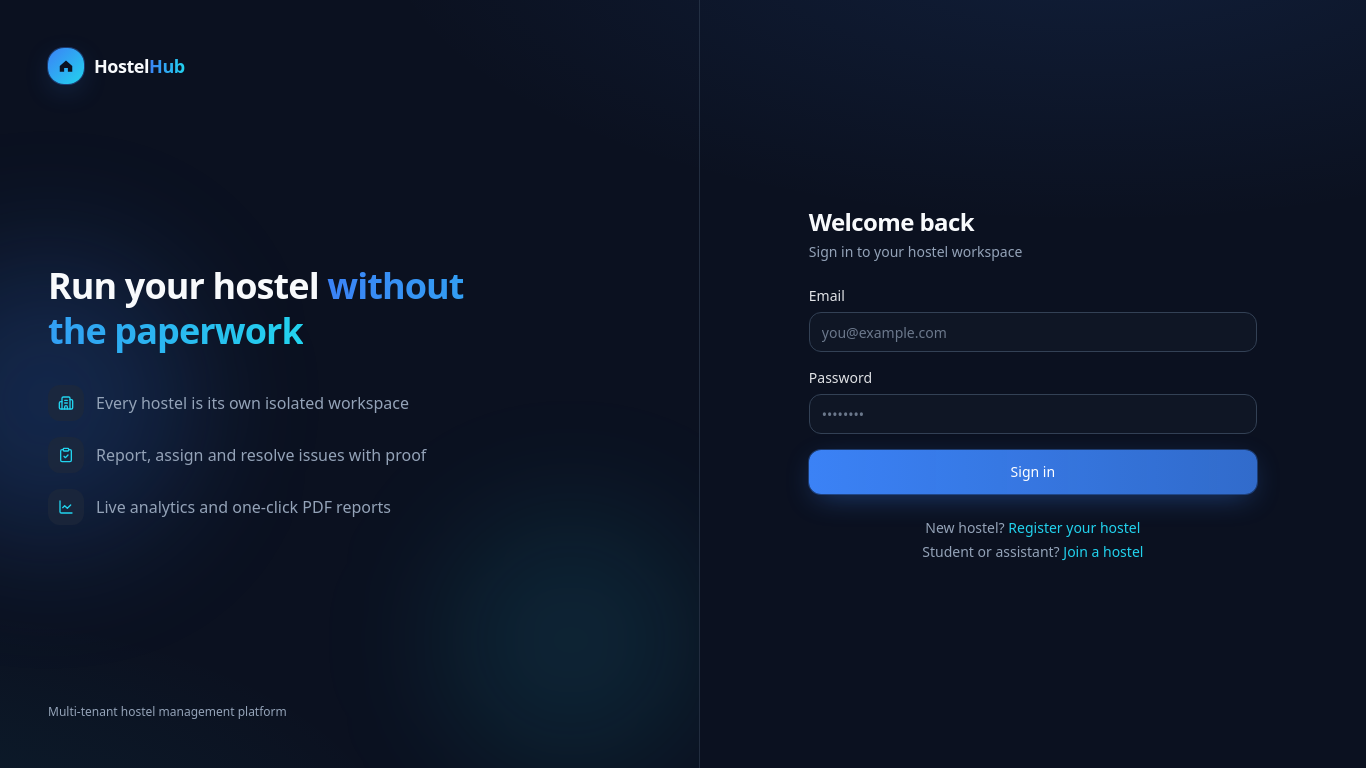
login form › explains rate limiting
The image size is (1366, 768).
Type "a@b.co" into the field labelled "Email" at (1033,332), box [809, 312, 1257, 352]
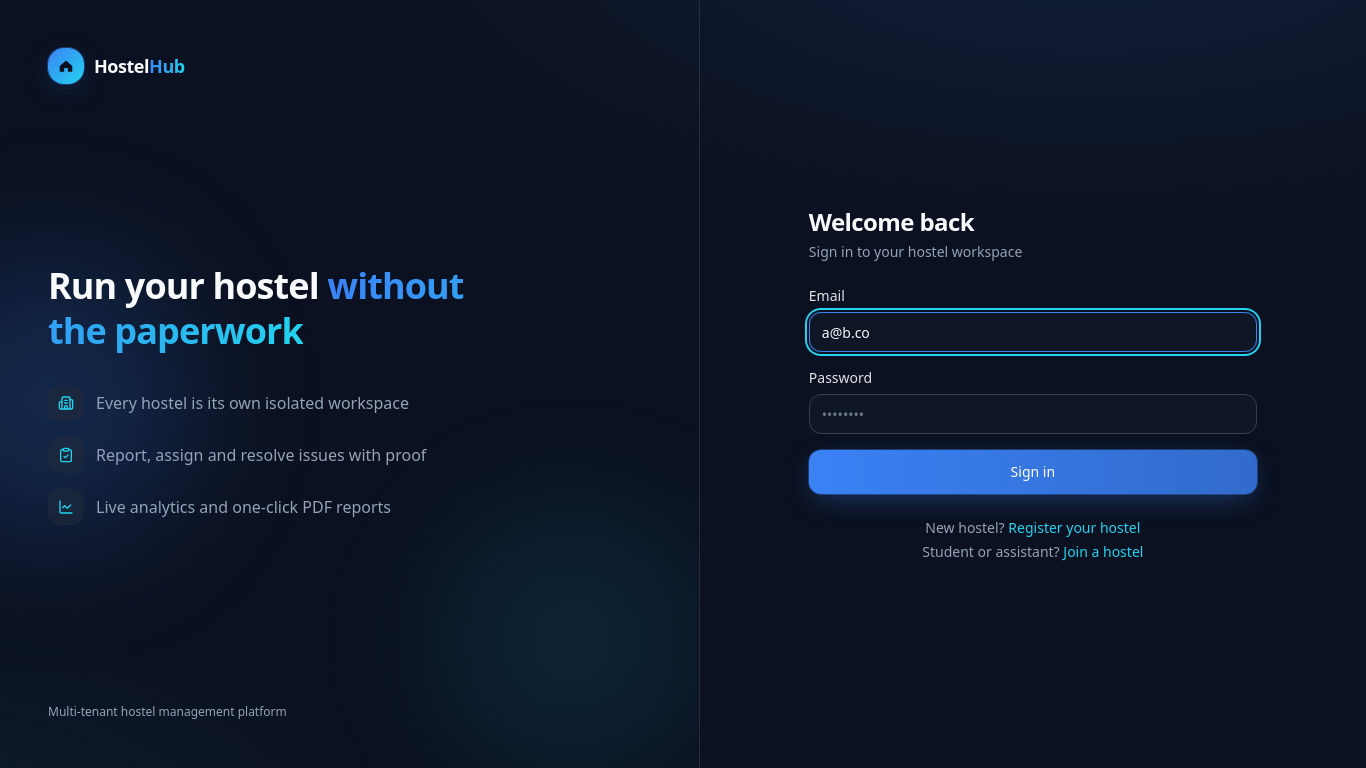
Type "wrong" into the password field labelled "Password" at (1033,414), box [809, 394, 1257, 434]
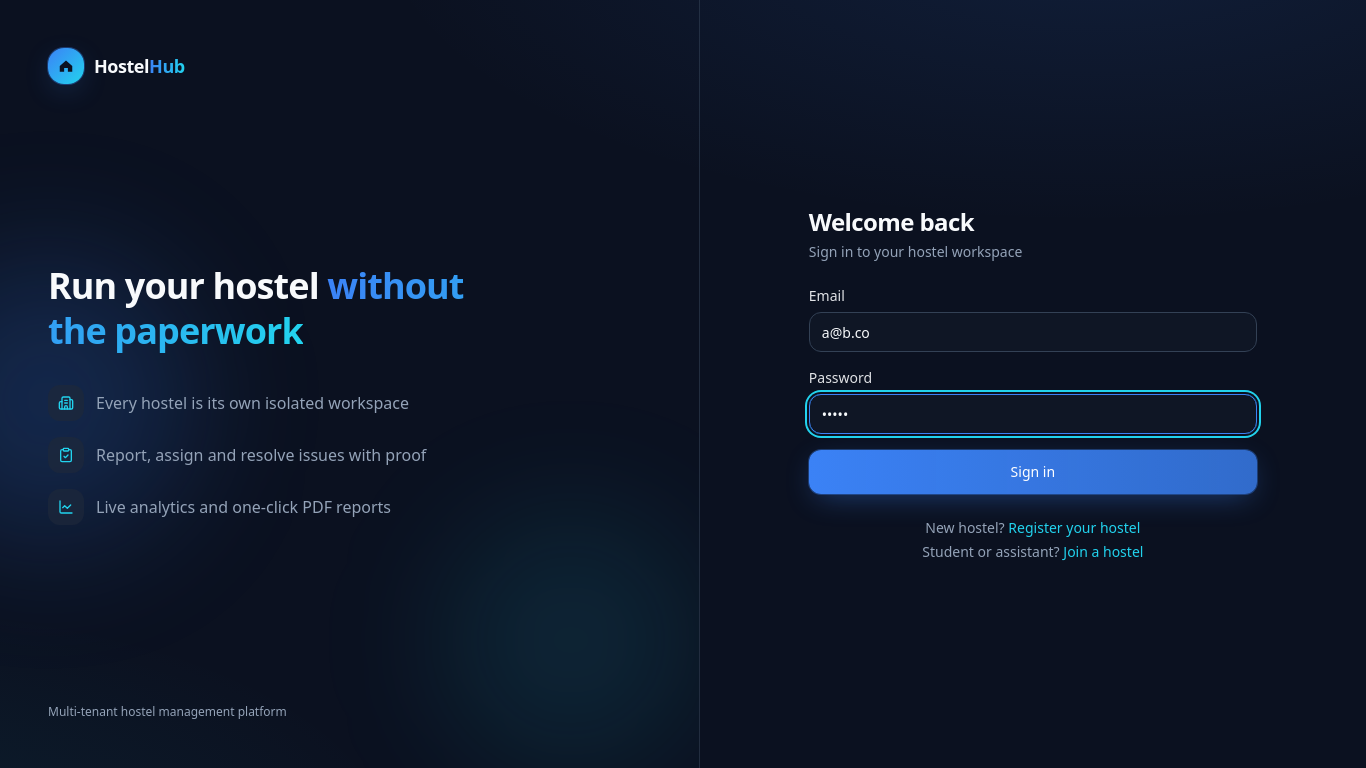
Click the button "Sign in" at (1033,472), box [809, 450, 1257, 494]
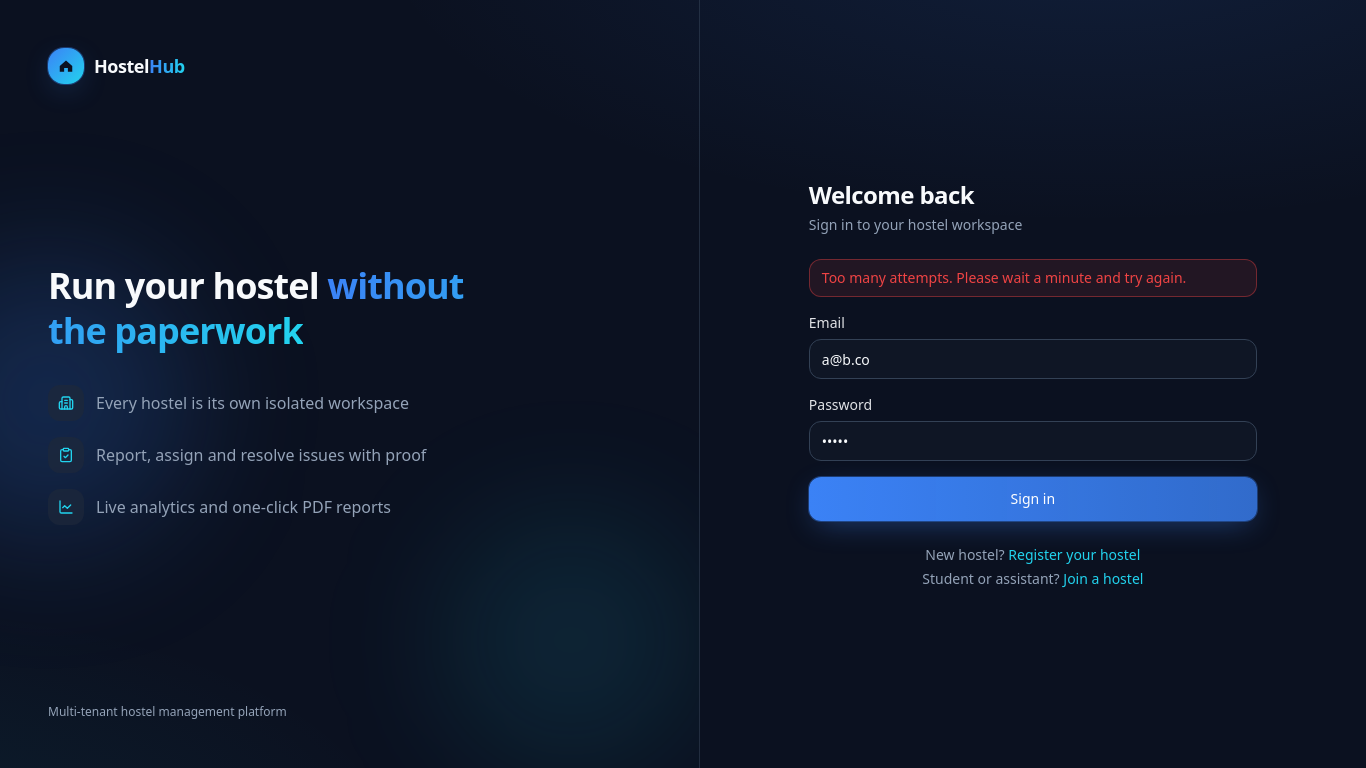
Now the message shows "Too many attempts", box [822, 268, 1186, 287]
